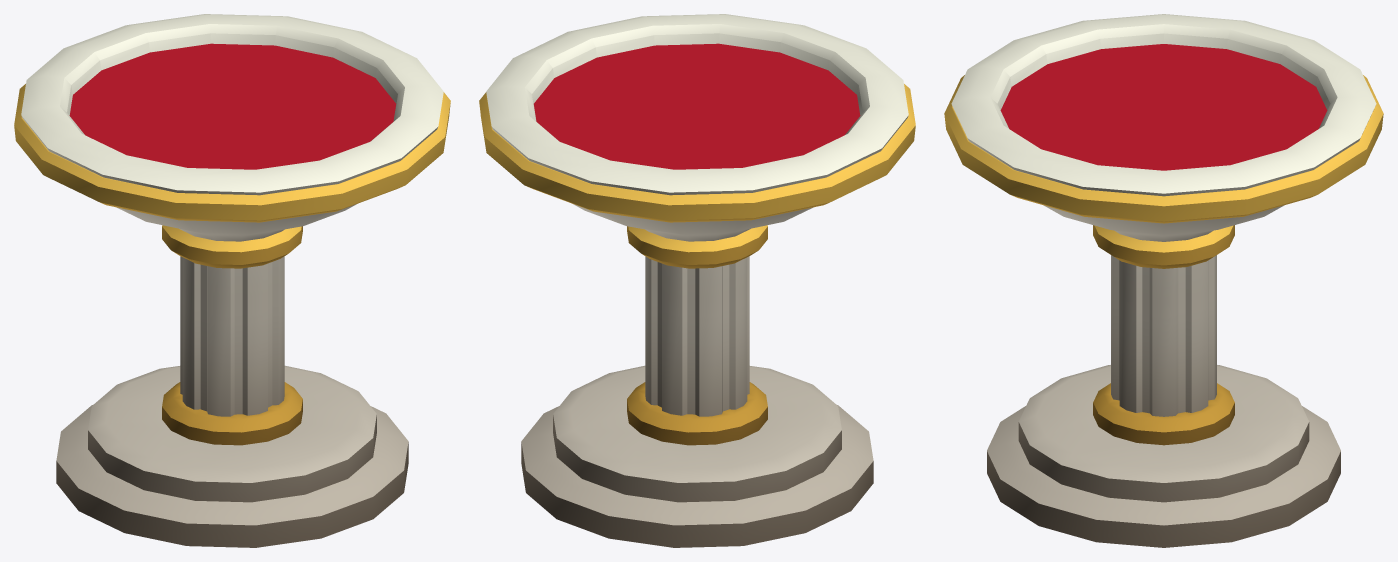
File: fountain_chalice_health.glb
The picture shows the model from 3 angles, left to right: view 1: azimuth 30°, elevation 25°; view 2: azimuth 150°, elevation 25°; view 3: azimuth 270°, elevation 25°; orthographic projection.
Visible parts, largest first — view 1: Item, Liquid; view 2: Item, Liquid; view 3: Item, Liquid.
Boxes of the visible parts, bbox=[...] form: Item: bbox=[14, 14, 450, 547]; Liquid: bbox=[69, 43, 396, 169]; Item: bbox=[479, 14, 915, 547]; Liquid: bbox=[533, 43, 860, 169]; Item: bbox=[944, 14, 1383, 547]; Liquid: bbox=[1000, 44, 1327, 170].
Bounding box in the file's own units: 1.24 × 1.17 × 1.24.
3 materials, 3 textured.
